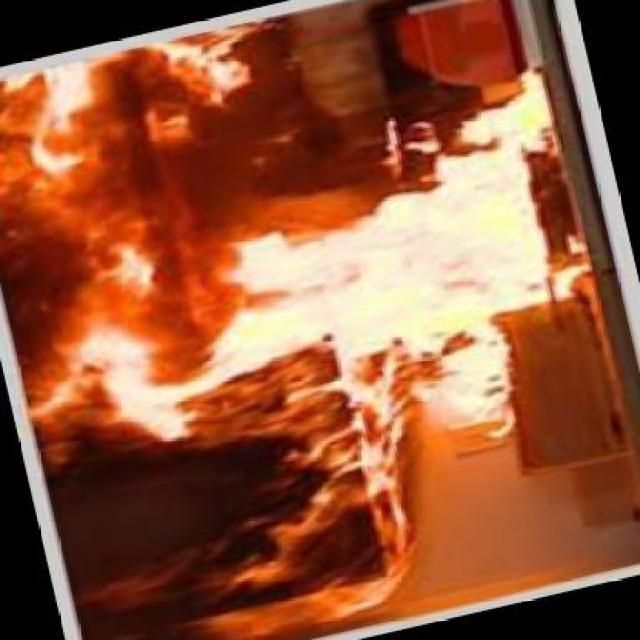Fire: (214, 138, 544, 572), (38, 300, 202, 496), (16, 30, 274, 142)
